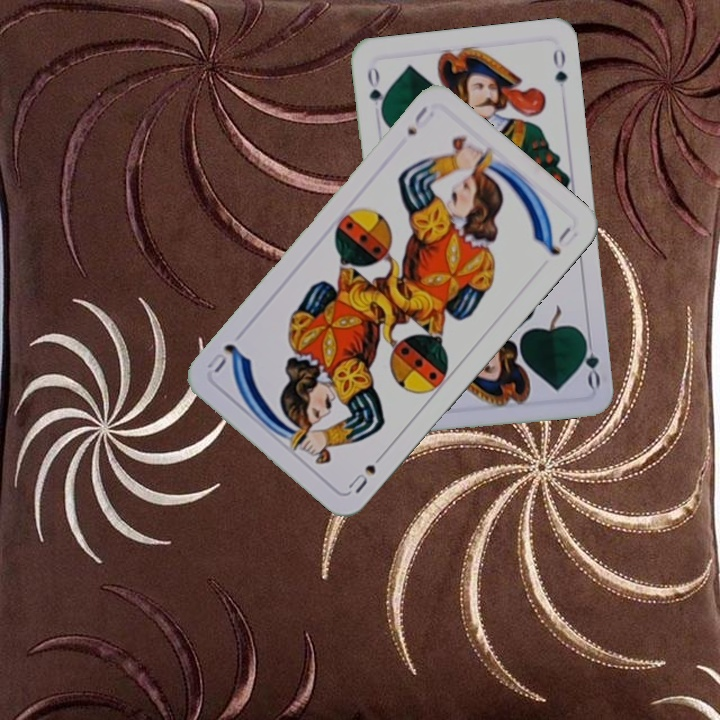GO: (576, 331, 603, 390), (363, 63, 388, 121)
SU: (344, 446, 390, 496), (403, 102, 437, 139)
